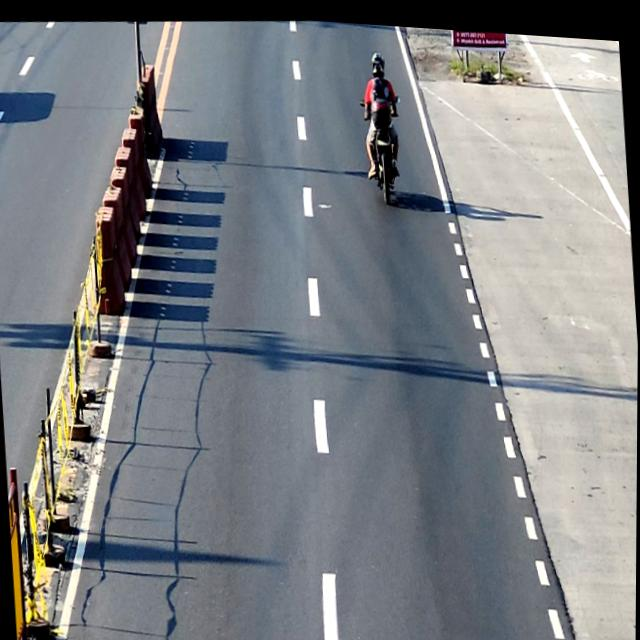Motorcycle: (358, 87, 408, 201)
